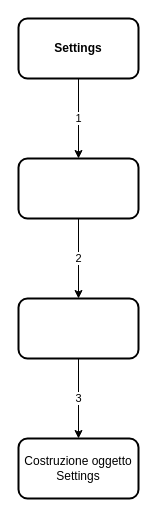
This 156x516 diagram has some shape labels left out. The shapes that lost their labels are listed below. From the top down, each one's box as (x1, y1, x2, y2) in pixels, then its label:
(17, 157, 139, 219): Dichiarazione Struttura
(17, 297, 139, 359): Lettura File
